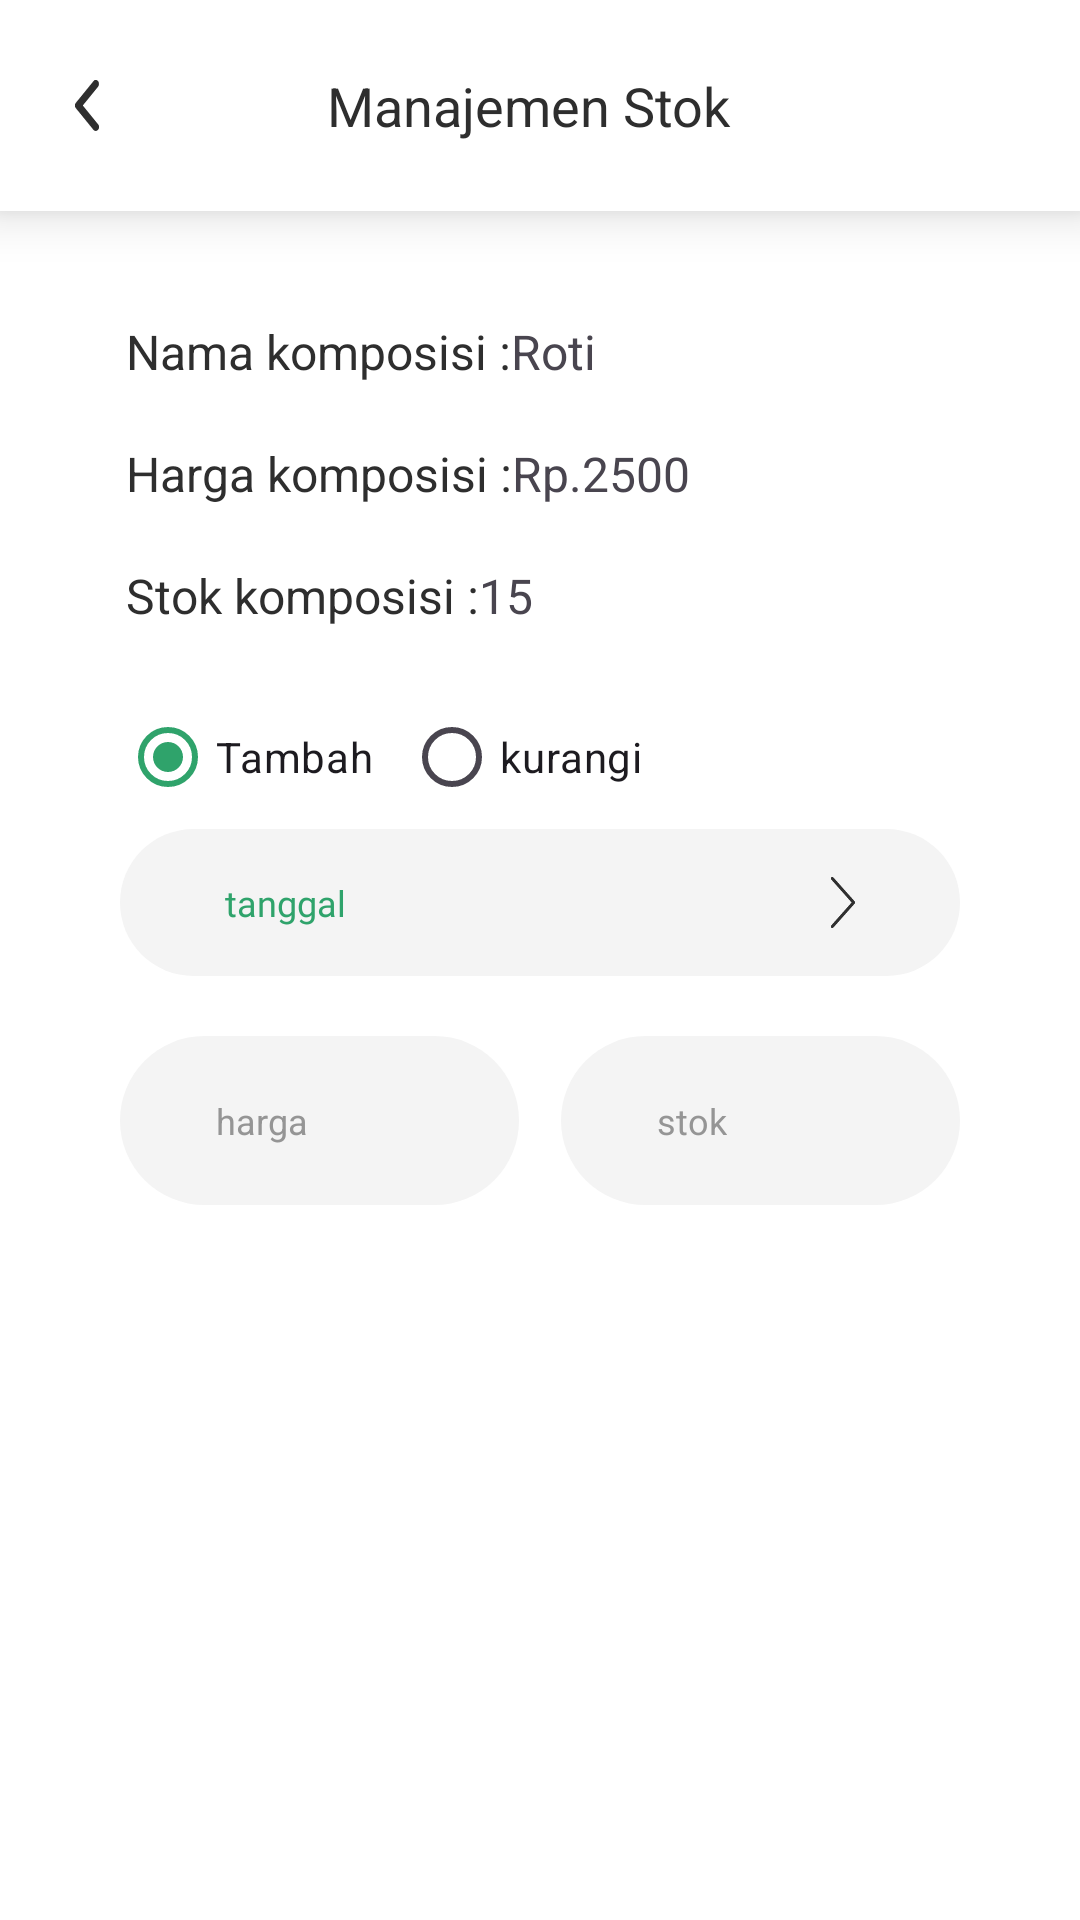

Named icons in this screenshot (1080×1920) and their centers, (x=x, y=y):
back: (x=87, y=105)
next: (x=843, y=902)
